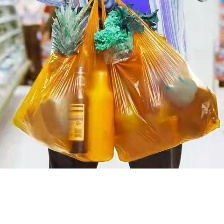plastic_bag: (104, 0, 223, 171), (7, 0, 118, 165)
